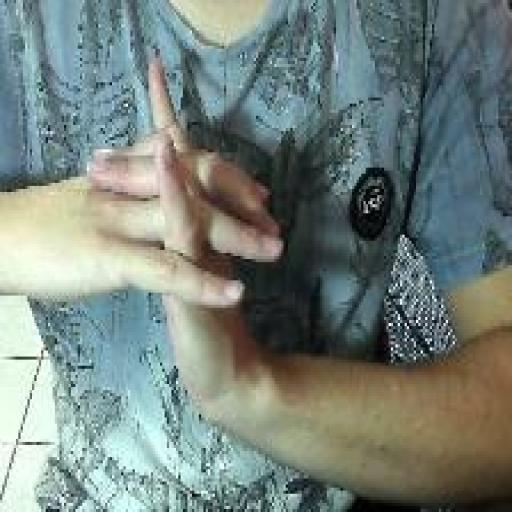Ushi -ox-: (82, 52, 288, 433)
